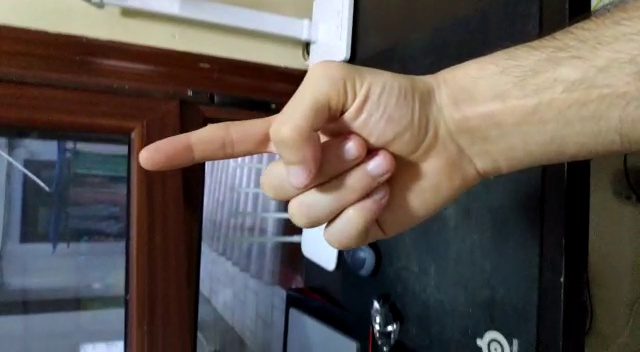One: (134, 115, 357, 176)
